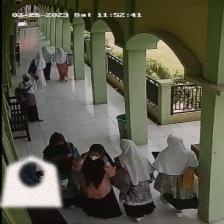Mukena: (1, 156, 61, 206)
